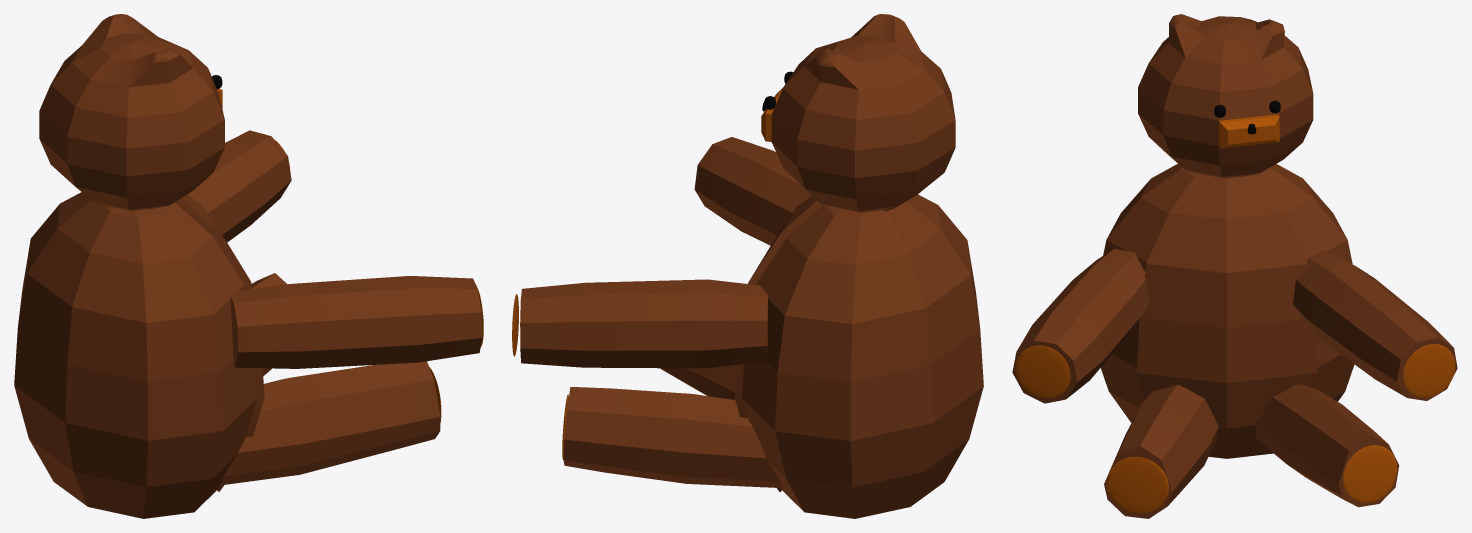
Rendered from Bear 2 color.fbx.
The picture shows the model from 3 angles, left to right: view 1: azimuth 30°, elevation 25°; view 2: azimuth 150°, elevation 25°; view 3: azimuth 270°, elevation 25°; orthographic projection. The views are drawn at different scales.
Visible parts, largest first — view 1: pSphere6.002, pSphere6; view 2: pSphere6.002; view 3: pSphere6.002, pSphere6.001, pSphere6.004.
Part boxes in pixels (bbox=[...]): pSphere6.002: bbox=[14, 14, 483, 518]; pSphere6: bbox=[93, 57, 478, 367]; pSphere6.002: bbox=[512, 14, 983, 518]; pSphere6.002: bbox=[1012, 14, 1457, 518]; pSphere6.001: bbox=[1015, 344, 1455, 513]; pSphere6.004: bbox=[1219, 114, 1279, 148].
Bounding box in the file's own units: 97.54 × 120 × 118.
